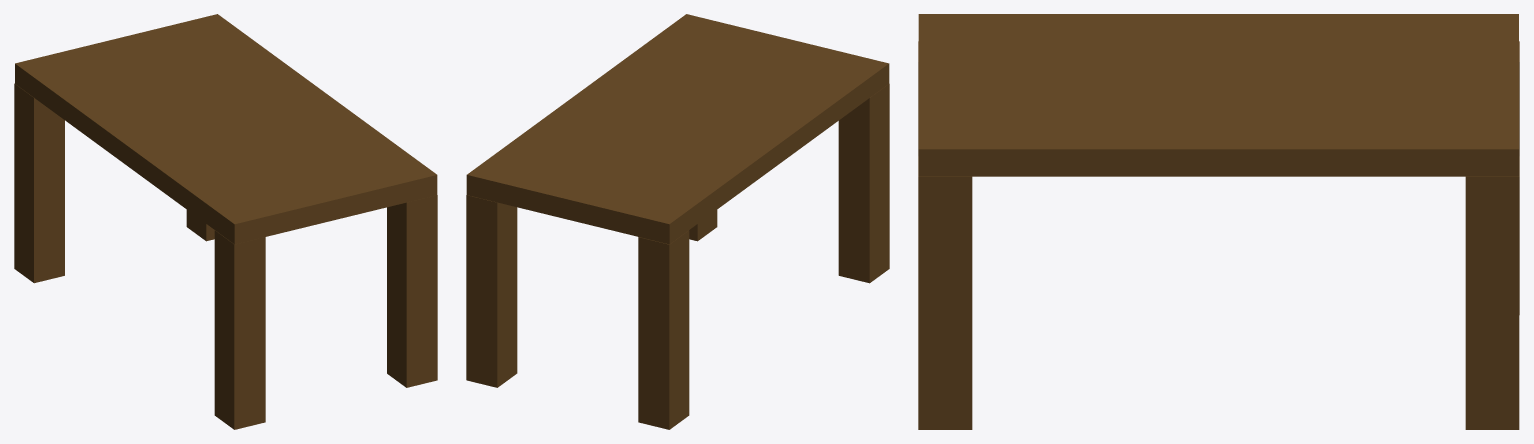
The model's file is tableModel.fbx.
3 views of the same model, side by side, from view 1: azimuth 30°, elevation 25°; view 2: azimuth 150°, elevation 25°; view 3: azimuth 270°, elevation 25° (orthographic). The views are drawn at different scales.
Parts seen in each view (by area): view 1: Cube__1_, Cube__2_, Cube__3_, Cube, Cube__4_; view 2: Cube__1_, Cube, Cube__4_, Cube__2_, Cube__3_; view 3: Cube__1_, Cube__3_, Cube__4_.
Part boxes in pixels (x1=…): Cube__1_: x1=15, y1=14, x2=437, y2=244; Cube__2_: x1=214, y1=230, x2=265, y2=429; Cube__3_: x1=387, y1=195, x2=437, y2=387; Cube: x1=14, y1=83, x2=64, y2=283; Cube__4_: x1=186, y1=210, x2=214, y2=241; Cube__1_: x1=466, y1=14, x2=889, y2=244; Cube: x1=638, y1=230, x2=689, y2=429; Cube__4_: x1=466, y1=195, x2=517, y2=387; Cube__2_: x1=838, y1=83, x2=889, y2=283; Cube__3_: x1=689, y1=210, x2=717, y2=241; Cube__1_: x1=918, y1=14, x2=1518, y2=176; Cube__3_: x1=918, y1=156, x2=972, y2=429; Cube__4_: x1=1465, y1=156, x2=1519, y2=429.
Size of the model in its own units: 136 by 132 by 256.
